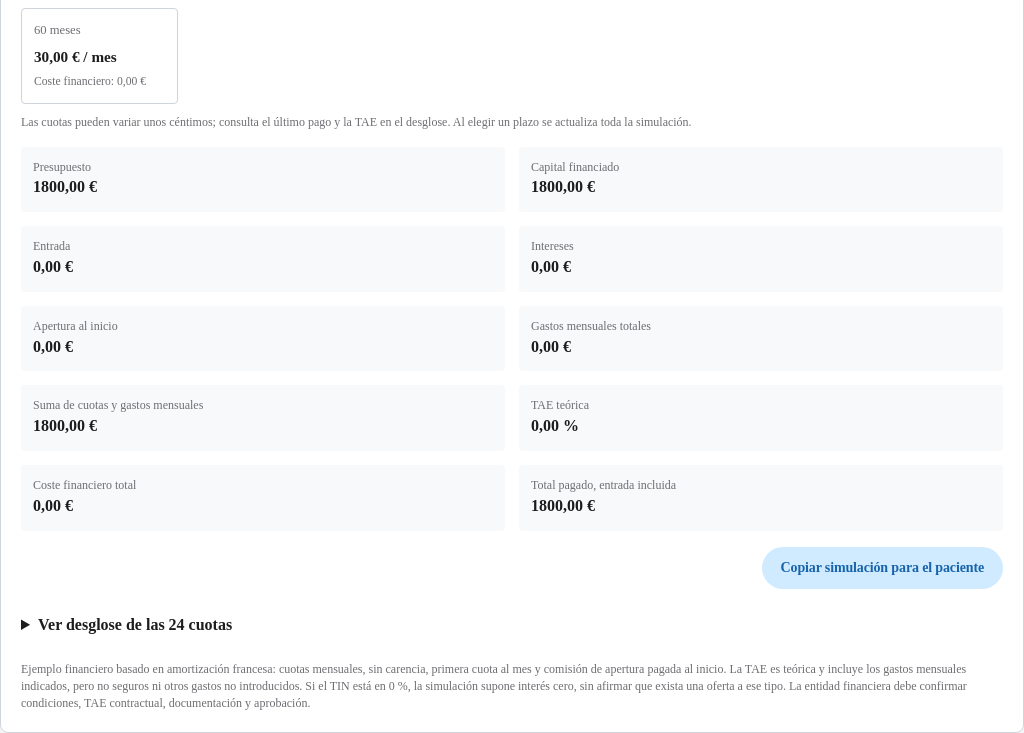
Scenario: financiación a continuación del presupuesto › copia un resumen explícitamente orientativo sin acciones de envío automáticas
(page scrolled)
Click the button "Copiar simulación para el paciente": (882, 568) left=762, top=546, right=1003, bottom=588
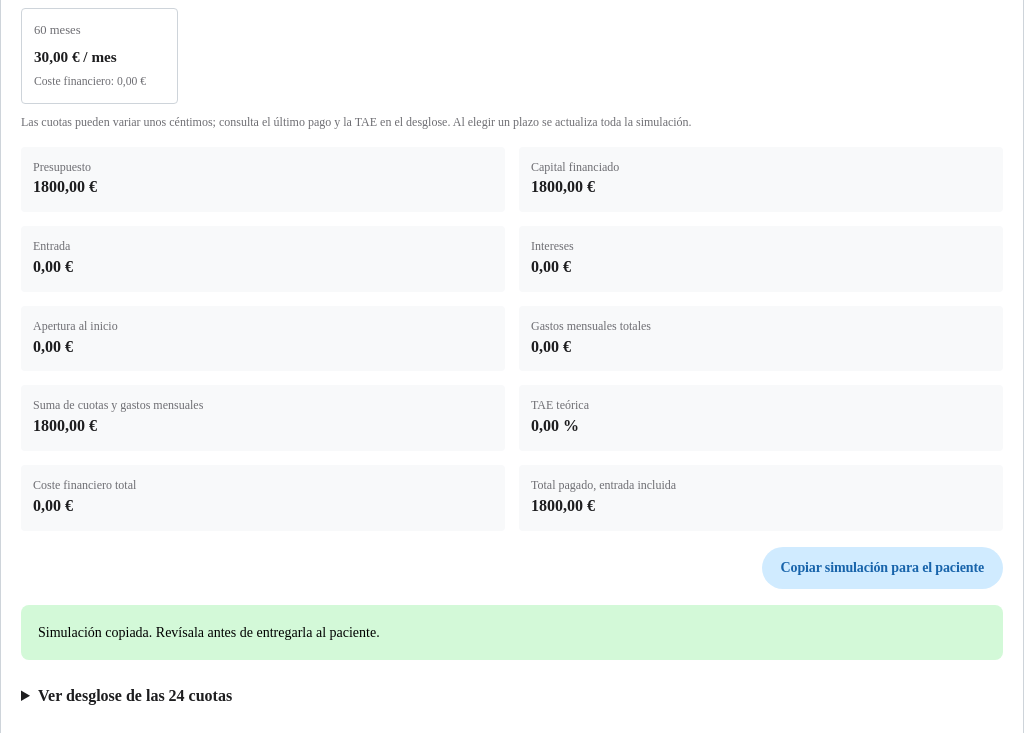
Check: the text "Simulación copiada" is shown, box left=38, top=624, right=380, bottom=640
